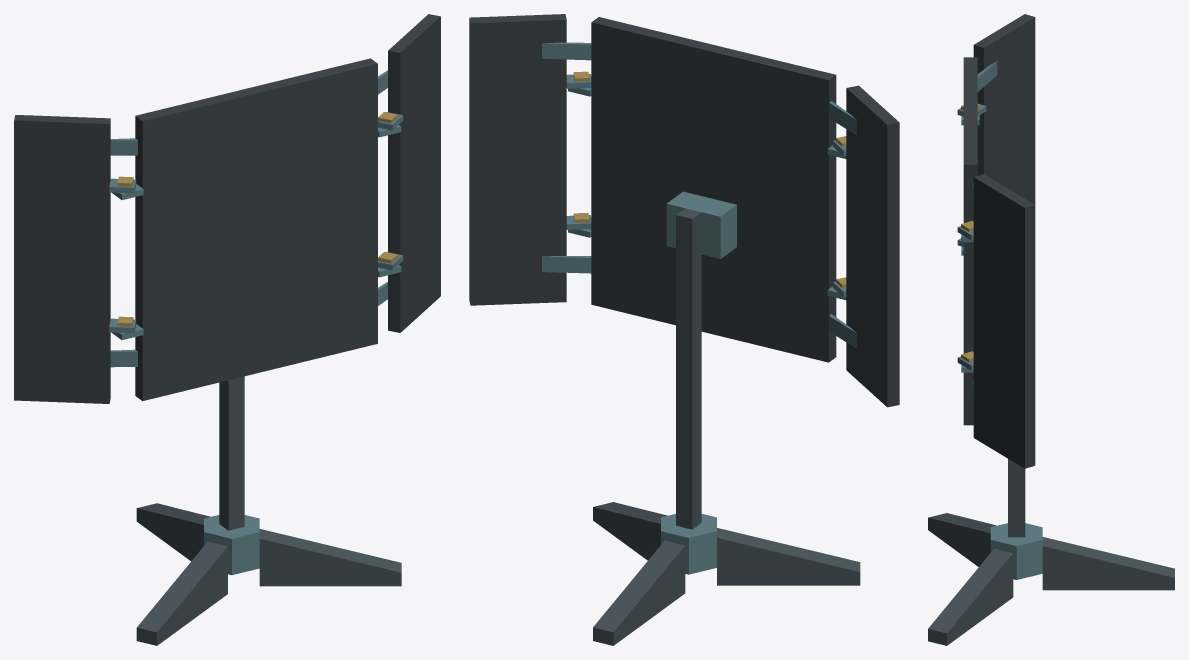
3 renders of one model, left to right at view 1: azimuth 30°, elevation 25°; view 2: azimuth 150°, elevation 25°; view 3: azimuth 270°, elevation 25°, orthographic. The views are drawn at different scales.
Visible parts, largest first — view 1: WholeCentralThickFlag, LeftWholeFixedThickWing, RightWholeFixedThickWing, WholeFlatSoleRadialLeg_3, WholeFlatSoleRadialLeg_2, OffsetRearStraightMast, WholeFlatSoleRadialLeg_1, WholeHexagonalTripodHub; view 2: WholeCentralThickFlag, RightWholeFixedThickWing, LeftWholeFixedThickWing, OffsetRearStraightMast, WholeFlatSoleRadialLeg_2, WholeFlatSoleRadialLeg_1, WholeRearPanelSaddle, WholeFlatSoleRadialLeg_3, WholeHexagonalTripodHub, RightFiniteFixedAngleStop_2, RightFiniteFixedAngleStop_1; view 3: RightWholeFixedThickWing, LeftWholeFixedThickWing, WholeFlatSoleRadialLeg_1, WholeCentralThickFlag, WholeFlatSoleRadialLeg_3, WholeFlatSoleRadialLeg_2, WholeHexagonalTripodHub, OffsetRearStraightMast.
Boxes of the visible parts, x1,y1,x2,y2 form: WholeCentralThickFlag: (135,58,377,401); LeftWholeFixedThickWing: (14,115,110,403); RightWholeFixedThickWing: (388,14,440,332); WholeFlatSoleRadialLeg_3: (259,529,401,586); WholeFlatSoleRadialLeg_2: (136,541,227,645); OffsetRearStraightMast: (219,376,244,530); WholeFlatSoleRadialLeg_1: (136,503,210,561); WholeHexagonalTripodHub: (204,515,259,575); WholeCentralThickFlag: (591,17,836,362); RightWholeFixedThickWing: (469,14,566,305); LeftWholeFixedThickWing: (846,85,899,407); OffsetRearStraightMast: (676,208,701,529); WholeFlatSoleRadialLeg_2: (717,528,860,585); WholeFlatSoleRadialLeg_1: (593,540,685,645); WholeRearPanelSaddle: (666,191,736,258); WholeFlatSoleRadialLeg_3: (593,502,667,560); WholeHexagonalTripodHub: (661,514,716,574); RightFiniteFixedAngleStop_2: (542,42,591,60); RightFiniteFixedAngleStop_1: (542,256,591,273); RightWholeFixedThickWing: (973,174,1035,468); LeftWholeFixedThickWing: (973,14,1035,204); WholeFlatSoleRadialLeg_1: (1042,537,1174,590); WholeCentralThickFlag: (963,57,977,425); WholeFlatSoleRadialLeg_3: (928,548,1013,645); WholeFlatSoleRadialLeg_2: (928,513,996,566); WholeHexagonalTripodHub: (990,523,1042,579); OffsetRearStraightMast: (1008,459,1025,537).
Bounding box in the file's own units: 1.6 × 1.82 × 0.8579.
